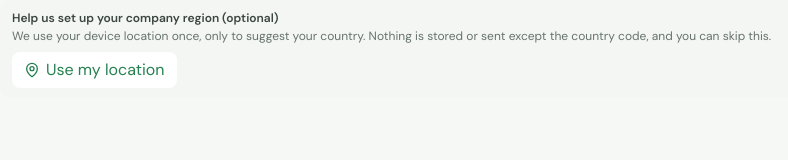
it: RegionalLocationOptIn › warns about a border and lets the user drop the hint
Later steps or results of the test are not shown.
Click the button "Use my location".
click(94, 70)  # box [12, 52, 176, 88]
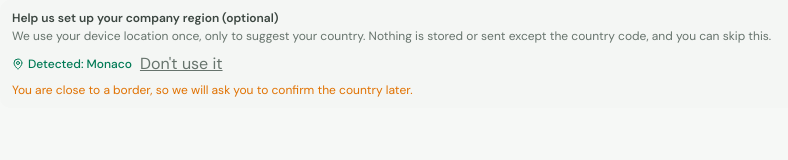
expect the text "close to a border" is shown: met, box [12, 82, 412, 98]
